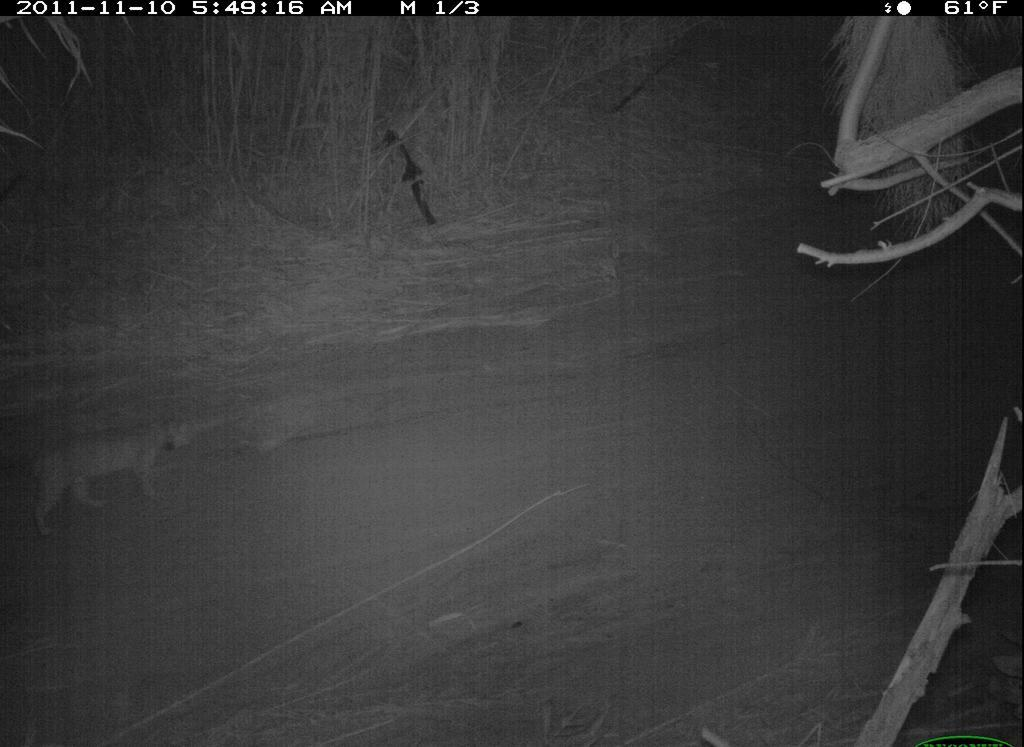bobcat: (15, 414, 196, 543)
